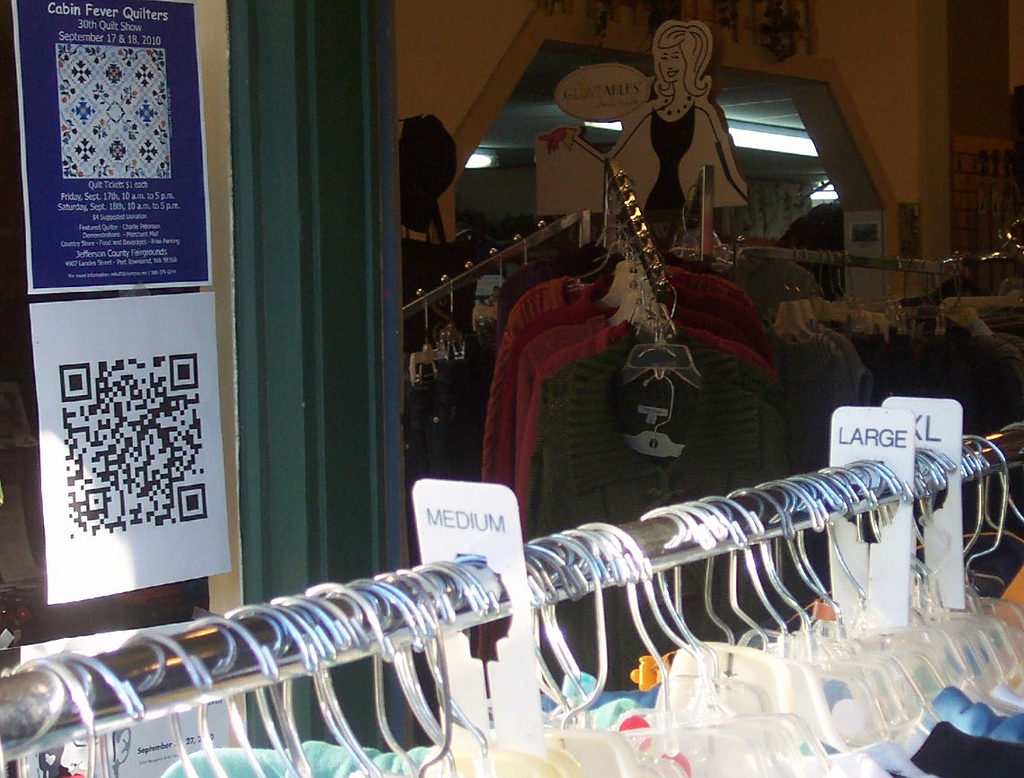QR-CODE: (58, 352, 207, 539)
